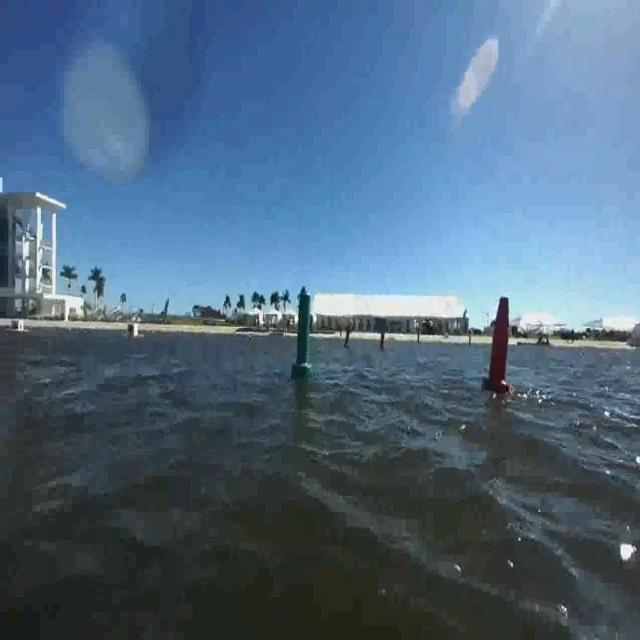green-column-buoy: (293, 290, 317, 377), (344, 325, 354, 349)
red-column-buoy: (484, 293, 513, 395), (380, 329, 388, 352)
